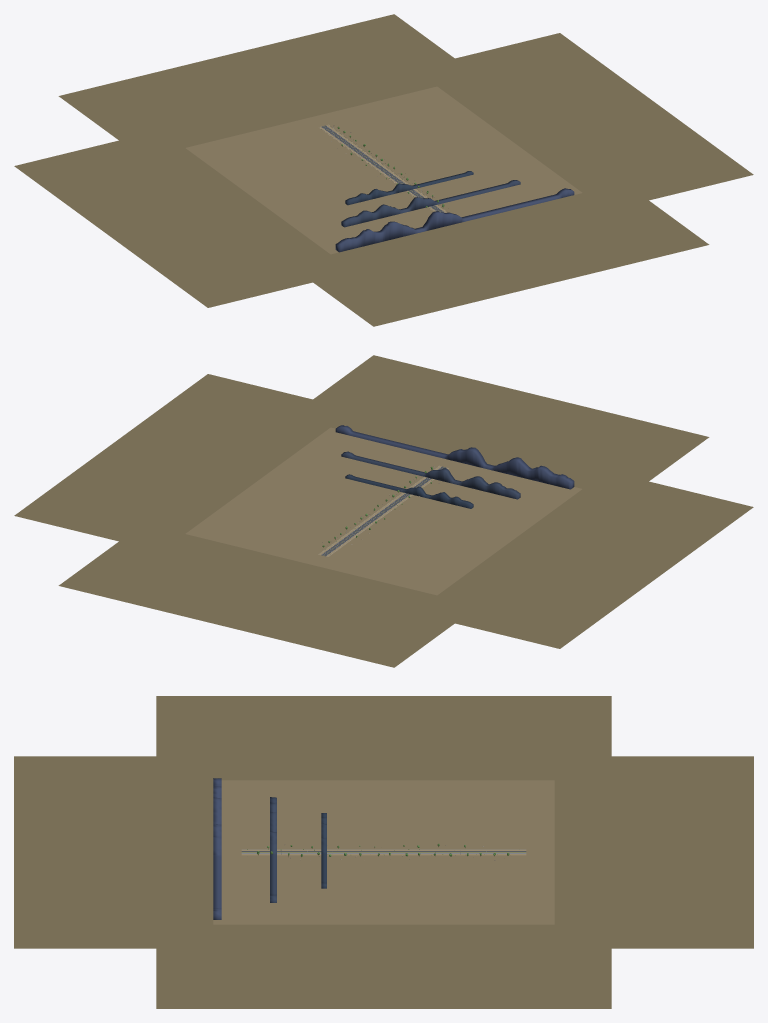
The model's file is kavya-env.glb.
The picture shows the model from 3 angles, top to bottom: view 1: azimuth 30°, elevation 25°; view 2: azimuth 150°, elevation 25°; view 3: azimuth 270°, elevation 25°; orthographic projection. The views are drawn at different scales.
Visible parts, largest first — view 1: Env_Ground, Env_GroundExt_450, Env_GroundExtX_450, Env_GroundExt_-450, Env_GroundExtX_-450, Env_Mtn_Far, Env_Mtn_Mid, Env_Mtn_Near, Env_Road; view 2: Env_Ground, Env_GroundExtX_450, Env_GroundExt_-450, Env_GroundExt_450, Env_GroundExtX_-450, Env_Mtn_Far, Env_Mtn_Mid, Env_Mtn_Near, Env_Road; view 3: Env_Ground, Env_GroundExtX_450, Env_GroundExt_450, Env_GroundExt_-450, Env_GroundExtX_-450, Env_Mtn_Far, Env_Road, Env_Mtn_Mid, Env_ShoulderL.
Boxes of the visible parts, x1,y1,x2,y2 form: Env_Ground: (186,86,582,254); Env_GroundExt_450: (58,14,490,166); Env_GroundExtX_450: (392,33,753,215); Env_GroundExt_-450: (277,196,709,326); Env_GroundExtX_-450: (14,140,335,307); Env_Mtn_Far: (335,188,574,252); Env_Mtn_Mid: (341,180,520,227); Env_Mtn_Near: (345,171,473,205); Env_Road: (321,125,444,212); Env_Ground: (185,427,581,595); Env_GroundExtX_450: (14,374,374,556); Env_GroundExt_-450: (277,355,709,507); Env_GroundExt_450: (58,539,490,667); Env_GroundExtX_-450: (407,467,753,648); Env_Mtn_Far: (335,425,574,489); Env_Mtn_Mid: (341,451,520,499); Env_Mtn_Near: (345,474,473,508); Env_Road: (321,466,446,556); Env_Ground: (213,780,554,924); Env_GroundExtX_450: (156,912,611,1008); Env_GroundExt_450: (526,756,753,948); Env_GroundExt_-450: (14,756,241,948); Env_GroundExtX_-450: (156,696,611,792); Env_Mtn_Far: (213,778,221,919); Env_Road: (241,851,526,853); Env_Mtn_Mid: (270,797,276,902); Env_ShoulderL: (241,849,526,850).
Size of the model in its own units: 1300 by 45.96 by 1300.
